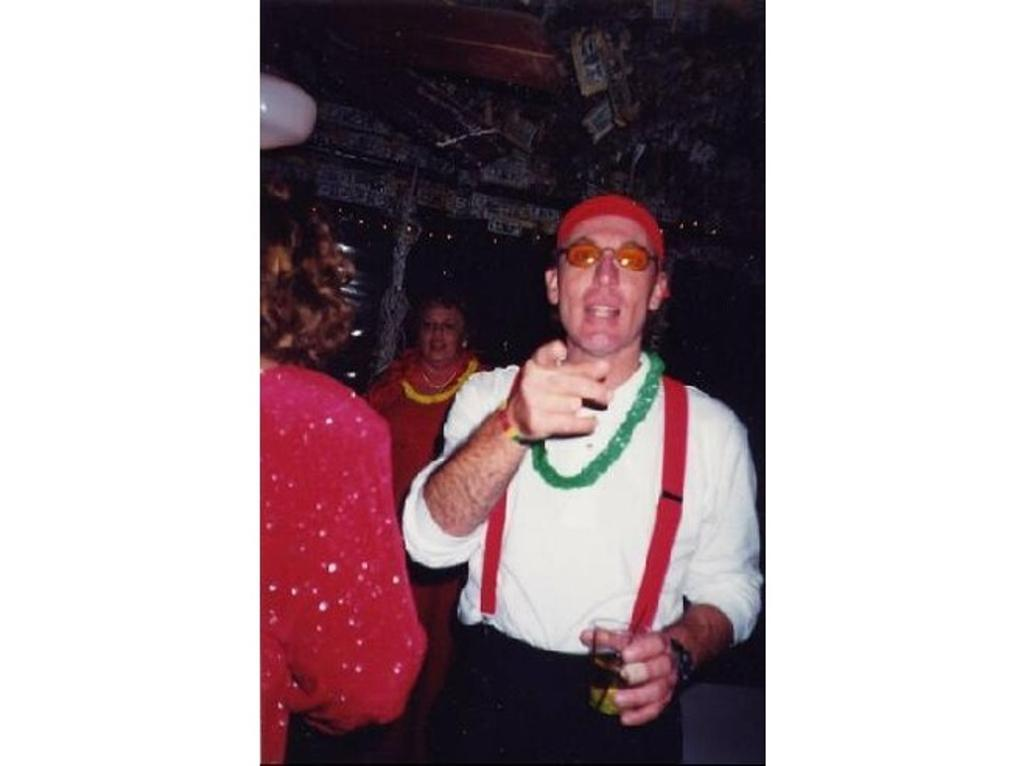face: (557, 225, 648, 353), (419, 317, 459, 361)
